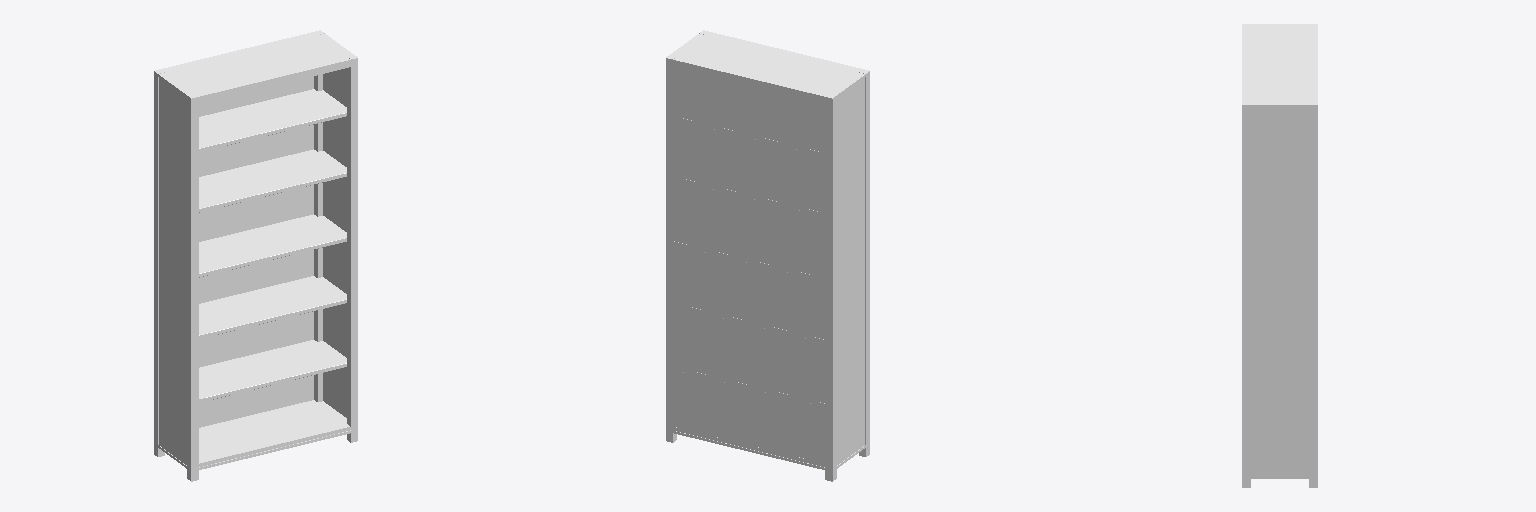
The model's file is bookcase-empty.obj.
The picture shows the model from 3 angles: view 1: azimuth 30°, elevation 25°; view 2: azimuth 150°, elevation 25°; view 3: azimuth 270°, elevation 25°; orthographic projection.
Visible parts, largest first — view 1: bookcase-empty; view 2: bookcase-empty; view 3: bookcase-empty.
Boxes of the visible parts, x1,y1,x2,y2 form: bookcase-empty: [154, 30, 357, 481]; bookcase-empty: [666, 30, 869, 481]; bookcase-empty: [1242, 24, 1317, 487].
Bounding box in the file's own units: 1.38 × 3.03 × 0.5431.